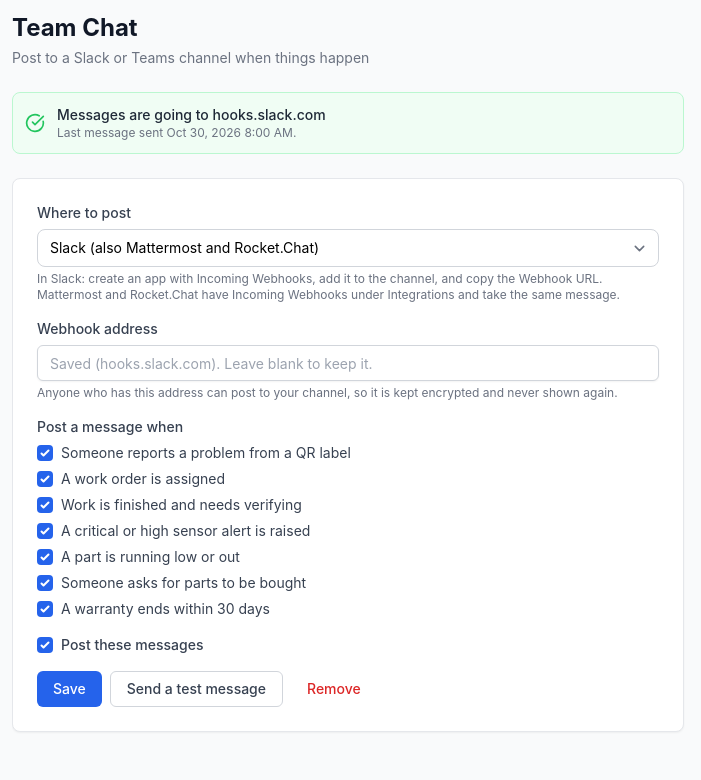
Test: ChatSettingsPage › can test the saved address without typing it again
The width and height of the screenshot is (701, 780).
Click the button "Send a test message" at (196, 689), box [110,671,283,707]
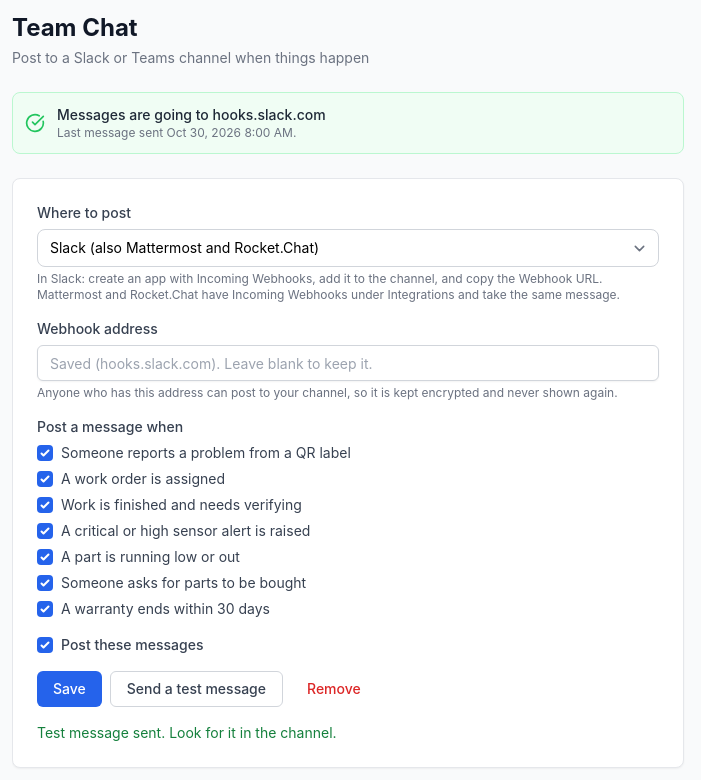
expect the text "Test message sent. Look for it in the channel." is shown: met, box [37,724,337,741]
